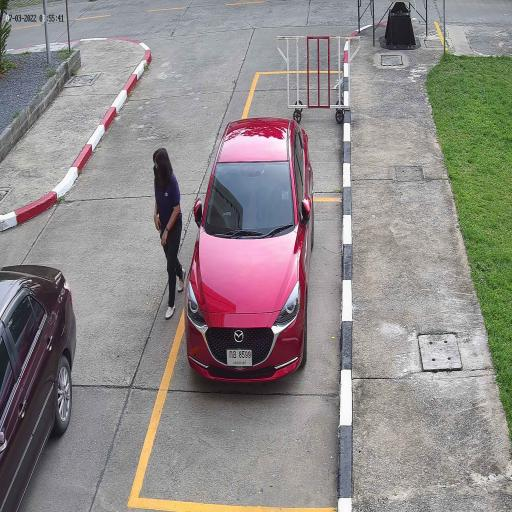car: (185, 117, 314, 381), (0, 263, 76, 512)
